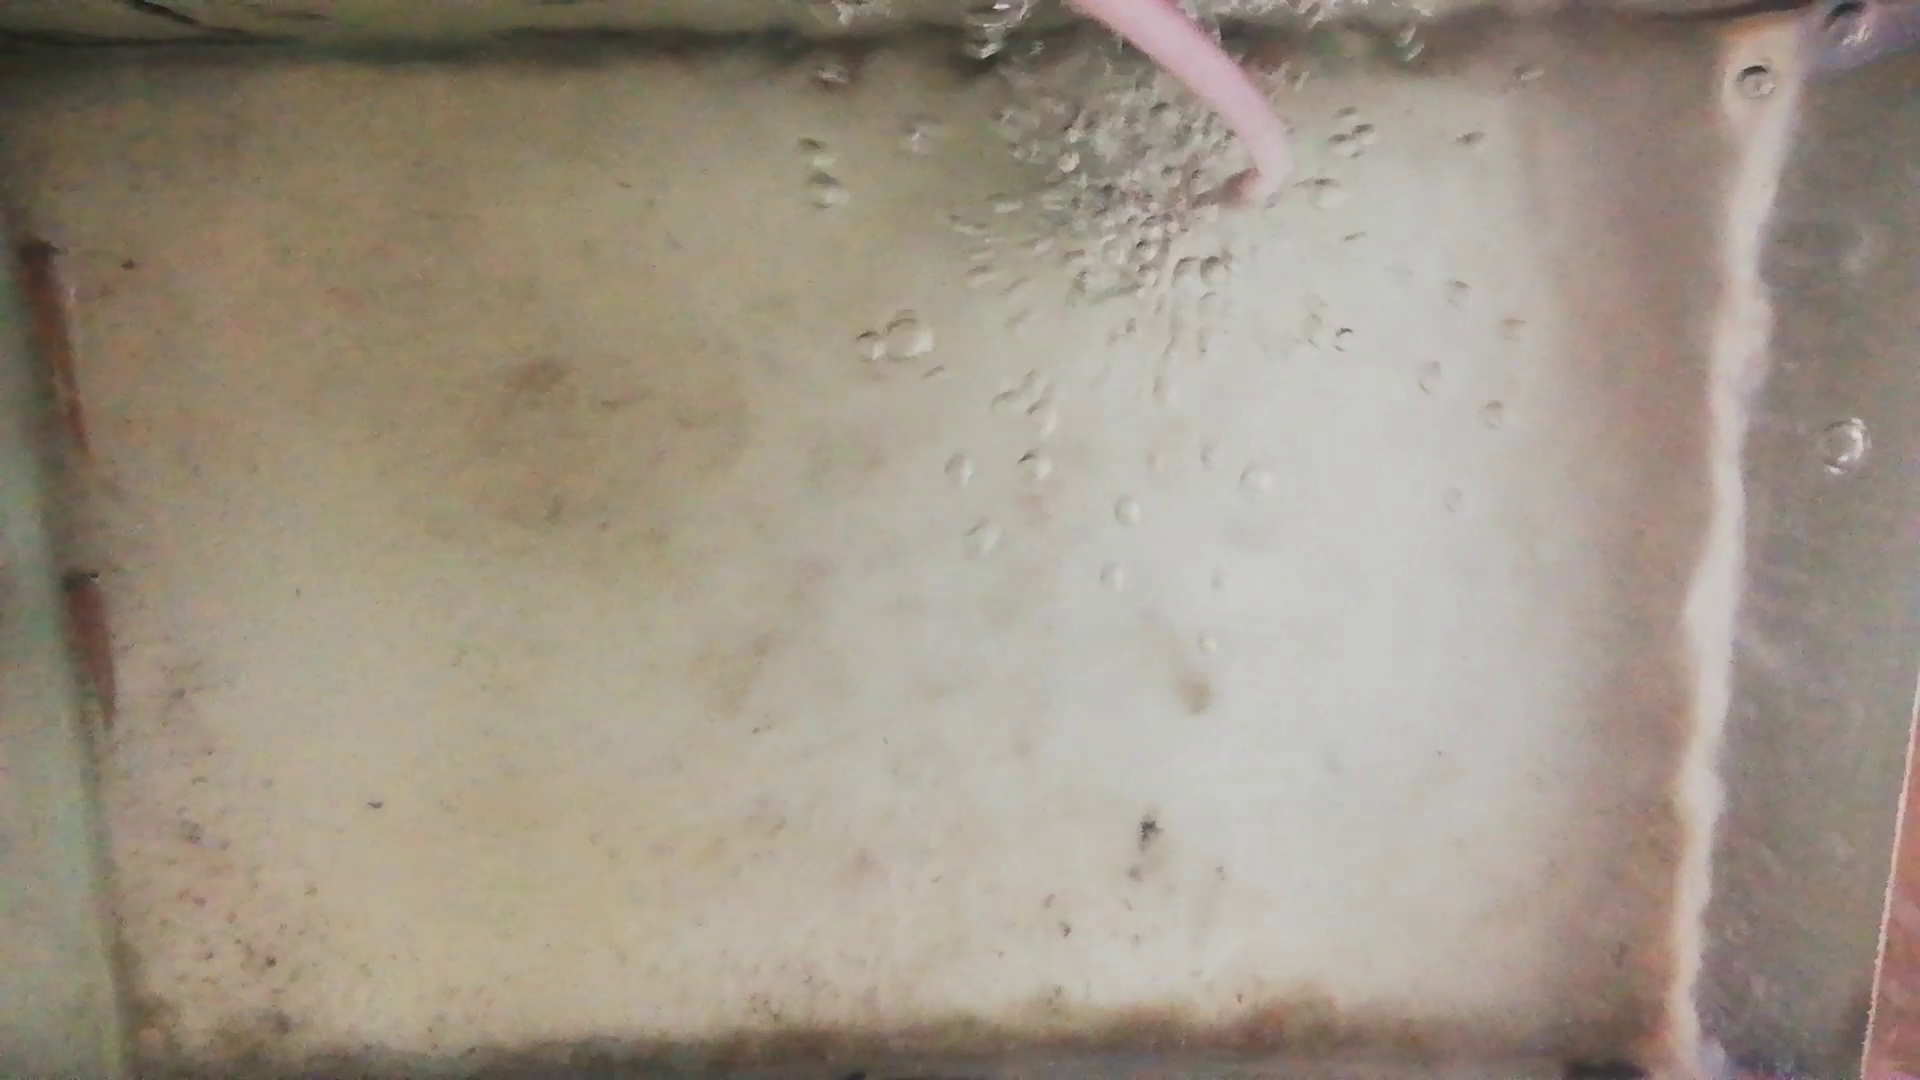fish: (15, 229, 88, 458), (55, 564, 119, 732)
